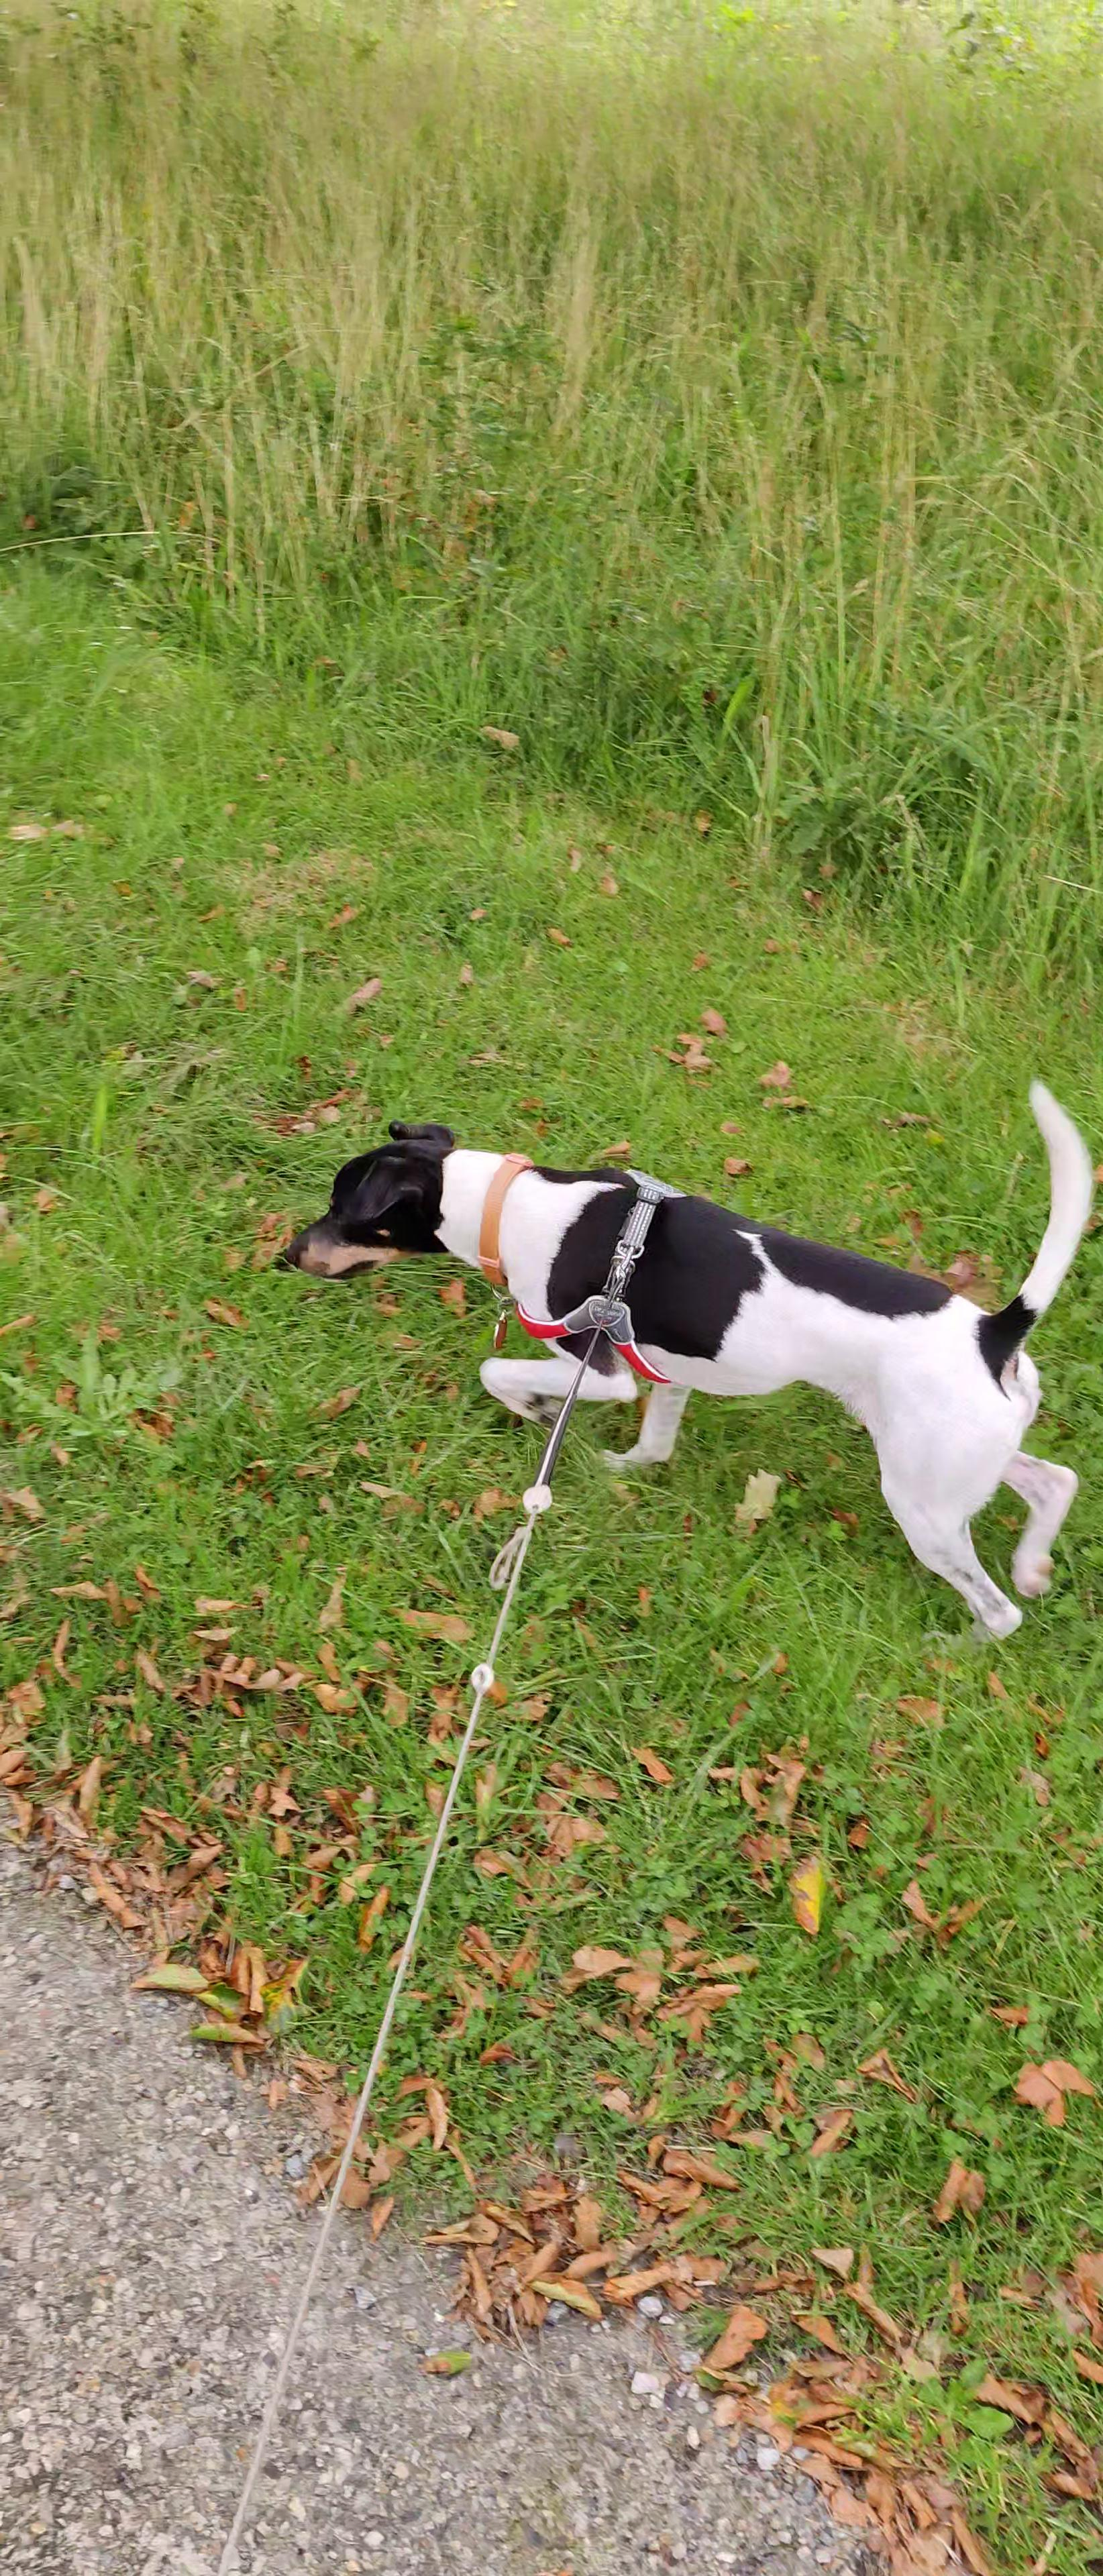Dog: (270, 1071, 1103, 1658)
